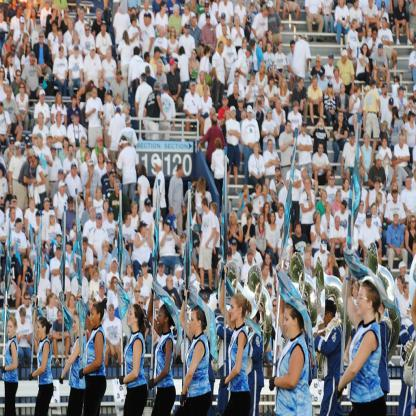face: (357, 286, 369, 317), (284, 310, 294, 338), (229, 300, 239, 321), (190, 311, 200, 332), (157, 307, 166, 328), (127, 305, 136, 326), (90, 306, 98, 326), (73, 315, 81, 334), (248, 312, 255, 328), (8, 321, 15, 336), (324, 311, 330, 328), (38, 323, 45, 337), (11, 208, 17, 221), (251, 242, 257, 254), (406, 179, 412, 190), (58, 312, 64, 323), (97, 217, 103, 228), (398, 279, 403, 291), (169, 277, 174, 289), (112, 262, 118, 272), (94, 272, 100, 282), (18, 222, 23, 234), (26, 294, 31, 306), (138, 277, 144, 287), (291, 43, 296, 54), (110, 307, 115, 318), (128, 266, 133, 277), (116, 183, 121, 194), (127, 215, 132, 226), (359, 179, 364, 190), (296, 226, 302, 235), (23, 258, 29, 267), (265, 267, 270, 277), (266, 255, 271, 265), (307, 257, 312, 267), (354, 287, 359, 297), (336, 219, 341, 229), (271, 213, 276, 223), (279, 208, 284, 218), (345, 180, 350, 190), (383, 139, 388, 149), (400, 138, 405, 148), (319, 144, 324, 154), (288, 123, 293, 133), (380, 78, 385, 88), (93, 90, 98, 100), (69, 147, 74, 157), (107, 51, 112, 61), (18, 6, 23, 16), (265, 205, 270, 215), (232, 244, 237, 254), (136, 289, 141, 299), (139, 300, 144, 310), (114, 280, 119, 290), (70, 297, 75, 307), (104, 244, 109, 254), (91, 210, 96, 220), (97, 191, 102, 201), (69, 200, 74, 210), (112, 173, 117, 183), (62, 185, 67, 195), (186, 206, 191, 216), (359, 31, 364, 41), (268, 142, 274, 150), (52, 294, 56, 306), (402, 267, 407, 276), (367, 216, 372, 225), (373, 207, 378, 216), (306, 181, 311, 190), (330, 177, 335, 186), (351, 136, 356, 145), (365, 136, 370, 145), (340, 114, 345, 123), (277, 100, 282, 109), (303, 171, 308, 180), (292, 159, 297, 168), (373, 31, 378, 40), (314, 79, 319, 88), (254, 145, 259, 154), (267, 43, 272, 52), (375, 181, 380, 190), (259, 86, 264, 95), (185, 25, 190, 34), (210, 110, 215, 119), (145, 1, 150, 10), (99, 140, 104, 149), (99, 155, 104, 164), (20, 86, 25, 95), (102, 24, 107, 33), (97, 12, 102, 21), (31, 54, 36, 63), (7, 91, 12, 100), (11, 141, 16, 150), (248, 254, 253, 263), (160, 266, 165, 275), (100, 286, 105, 295), (84, 242, 89, 251), (109, 213, 114, 222), (143, 265, 148, 274), (104, 202, 109, 211), (60, 173, 65, 182), (57, 235, 62, 244), (21, 314, 26, 323), (89, 166, 95, 173), (317, 214, 321, 224), (323, 193, 328, 201), (400, 88, 405, 96), (382, 20, 386, 30), (384, 86, 388, 96), (320, 118, 324, 128), (239, 101, 244, 109), (227, 114, 232, 122), (64, 140, 69, 148), (108, 162, 112, 172), (18, 72, 22, 82), (232, 215, 236, 225), (58, 248, 62, 258), (80, 267, 84, 277), (88, 200, 92, 210), (73, 167, 77, 177), (211, 206, 215, 216), (45, 202, 50, 210), (31, 200, 35, 210), (13, 200, 18, 208), (42, 267, 47, 275), (412, 218, 416, 228), (341, 205, 346, 213), (90, 301, 94, 311), (274, 302, 278, 311), (268, 287, 272, 296), (327, 204, 331, 213), (338, 193, 342, 202), (276, 169, 280, 178), (303, 126, 307, 135), (364, 45, 368, 54), (354, 20, 358, 29), (335, 69, 339, 78), (317, 59, 321, 68), (283, 79, 287, 88), (300, 80, 304, 89), (280, 43, 284, 52), (260, 65, 264, 74), (260, 42, 264, 51), (193, 17, 197, 26), (221, 44, 225, 53), (236, 18, 240, 27), (243, 41, 247, 50), (202, 73, 206, 82), (192, 84, 196, 93), (158, 64, 162, 73), (157, 50, 161, 59), (172, 29, 176, 38), (145, 17, 149, 26), (117, 73, 121, 82), (248, 50, 252, 59), (73, 98, 77, 107), (41, 94, 45, 103), (49, 137, 53, 146), (83, 140, 87, 149), (87, 154, 91, 163), (53, 25, 57, 34), (59, 32, 63, 41), (86, 27, 90, 36), (80, 11, 84, 20), (77, 8, 81, 17), (28, 43, 32, 52), (12, 47, 16, 56), (9, 36, 13, 45), (21, 22, 25, 31), (1, 69, 5, 78), (39, 115, 43, 124), (52, 149, 56, 158), (202, 203, 206, 212), (143, 226, 147, 235), (148, 204, 152, 213), (66, 244, 70, 253), (249, 218, 253, 227), (134, 206, 138, 215), (171, 63, 175, 72), (193, 52, 197, 61), (243, 112, 247, 121), (410, 99, 414, 108), (168, 224, 172, 233), (400, 1, 405, 8), (394, 78, 399, 85), (329, 57, 334, 64), (340, 1, 345, 8), (369, 1, 374, 8), (235, 74, 240, 81), (75, 117, 80, 124), (39, 35, 44, 42), (16, 147, 21, 154), (323, 246, 327, 254), (395, 215, 399, 223), (394, 194, 398, 202), (379, 47, 383, 55), (342, 85, 346, 93), (264, 9, 268, 17), (223, 27, 227, 35), (235, 85, 239, 93), (58, 96, 62, 104), (100, 80, 104, 88), (108, 94, 112, 102), (41, 94, 45, 102), (91, 50, 95, 58), (74, 34, 78, 42), (69, 21, 73, 29), (37, 138, 41, 146), (33, 158, 37, 166), (260, 216, 264, 224), (170, 207, 174, 215), (245, 189, 249, 197), (50, 216, 54, 224), (132, 10, 136, 18), (407, 285, 410, 295), (358, 87, 361, 97), (264, 186, 267, 196), (394, 185, 398, 192), (309, 249, 313, 256), (411, 115, 415, 122), (295, 106, 299, 113), (330, 86, 334, 93), (269, 113, 273, 120), (271, 79, 275, 86), (269, 7, 273, 14), (206, 5, 210, 12), (232, 110, 236, 117), (224, 99, 228, 106), (76, 49, 80, 56), (65, 11, 69, 18), (54, 9, 58, 16), (25, 37, 29, 44), (361, 203, 365, 210), (365, 90, 369, 97), (394, 159, 397, 168), (164, 4, 167, 13), (177, 8, 180, 17), (134, 18, 137, 27), (148, 54, 151, 63), (128, 108, 131, 117), (156, 164, 159, 173), (180, 166, 183, 175), (61, 49, 64, 58), (179, 269, 182, 278), (381, 195, 384, 204), (10, 55, 13, 64), (329, 256, 332, 264), (248, 112, 252, 118), (252, 77, 255, 85), (262, 98, 265, 106), (207, 18, 211, 24), (205, 88, 208, 96), (108, 94, 111, 102), (59, 115, 62, 123), (46, 3, 50, 9), (246, 207, 249, 215), (38, 216, 41, 224), (160, 28, 164, 34), (252, 44, 256, 50), (390, 104, 393, 111), (379, 160, 382, 167), (258, 186, 261, 193), (343, 56, 346, 63), (356, 1, 359, 8), (222, 18, 225, 25), (185, 7, 188, 14), (1, 15, 4, 22), (1, 106, 4, 113), (208, 51, 211, 58), (37, 23, 40, 30), (405, 117, 408, 124), (251, 7, 254, 13), (32, 10, 35, 16), (32, 155, 35, 161), (227, 40, 230, 46), (73, 97, 75, 105), (118, 98, 121, 103), (14, 1, 17, 6), (1, 170, 3, 177), (241, 1, 244, 4), (77, 57, 80, 60), (415, 91, 416, 100), (415, 42, 416, 50)
